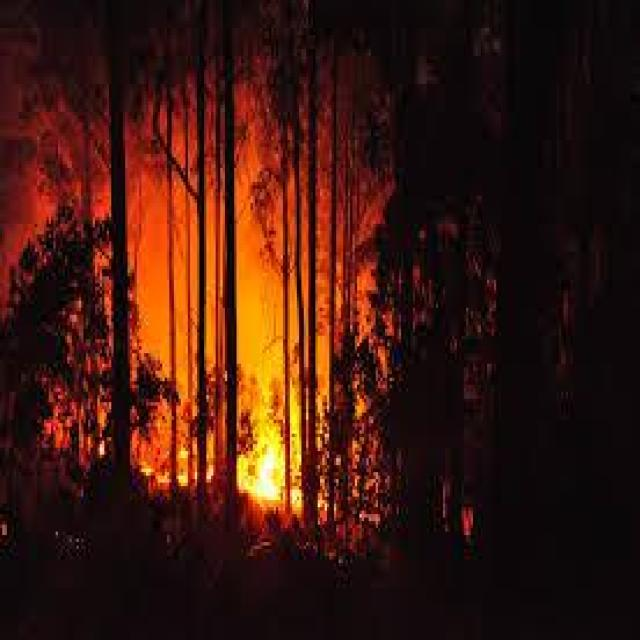fire: (225, 310, 348, 534)
